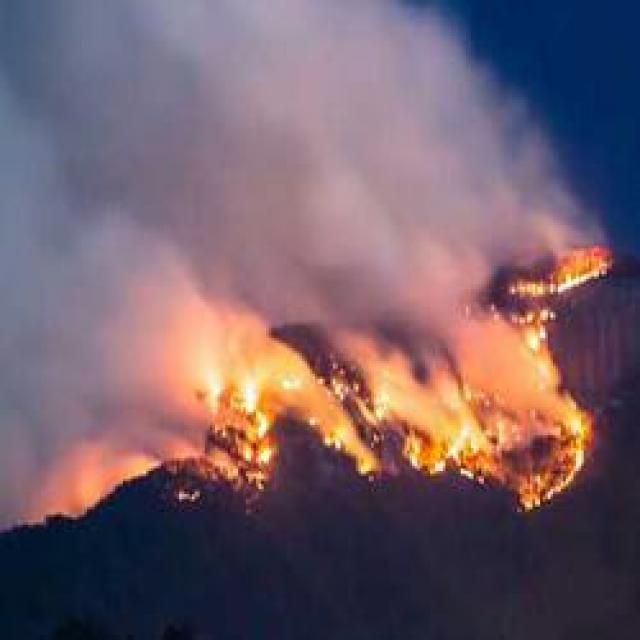fire: (233, 378, 275, 476), (547, 265, 609, 293), (447, 422, 477, 467), (567, 419, 590, 476)
smoke: (277, 0, 612, 245), (0, 99, 265, 351), (7, 329, 185, 462), (341, 328, 456, 433), (452, 319, 541, 401), (192, 306, 296, 371)
